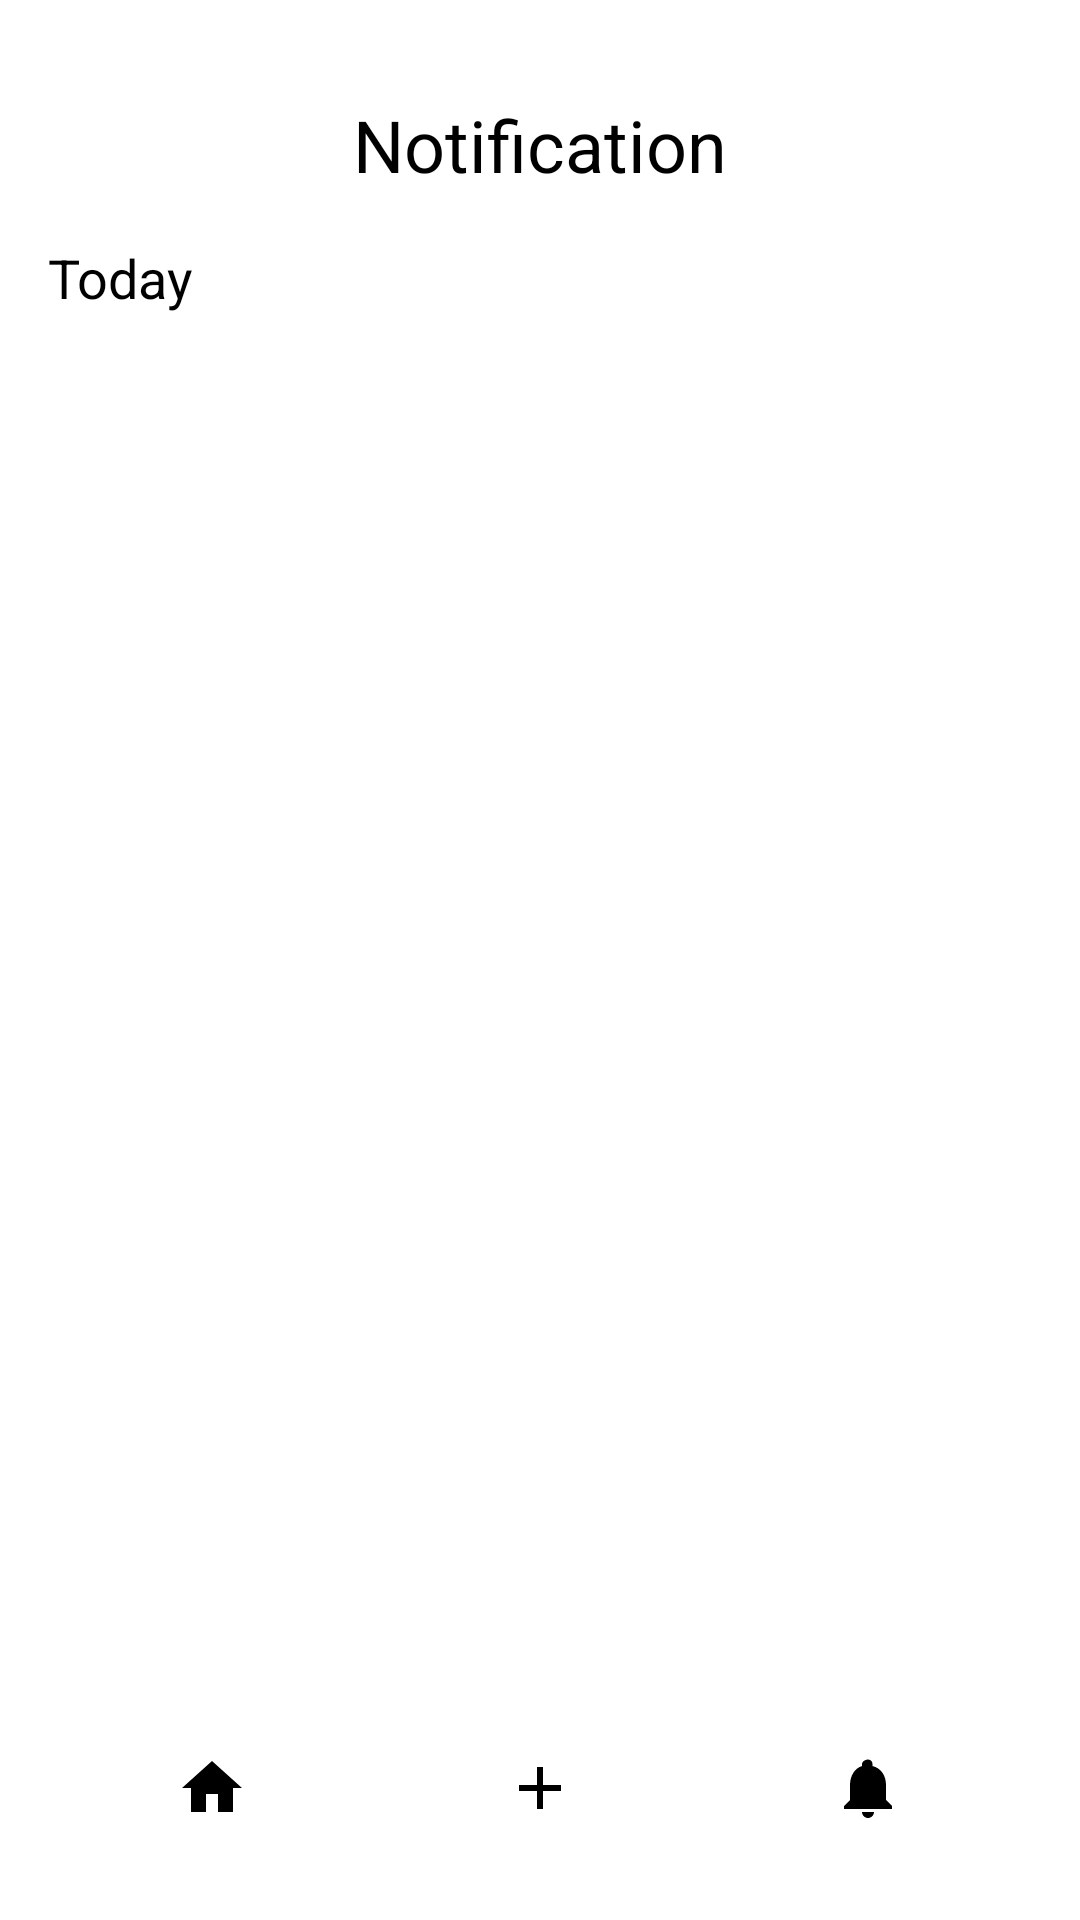

Icons on this 1080 x 1920 Android screen, each with the point to tap as (x=x, y=y):
Add Icon: (x=540, y=1788)
Home Icon: (x=212, y=1786)
Notifications Icon: (x=868, y=1788)
